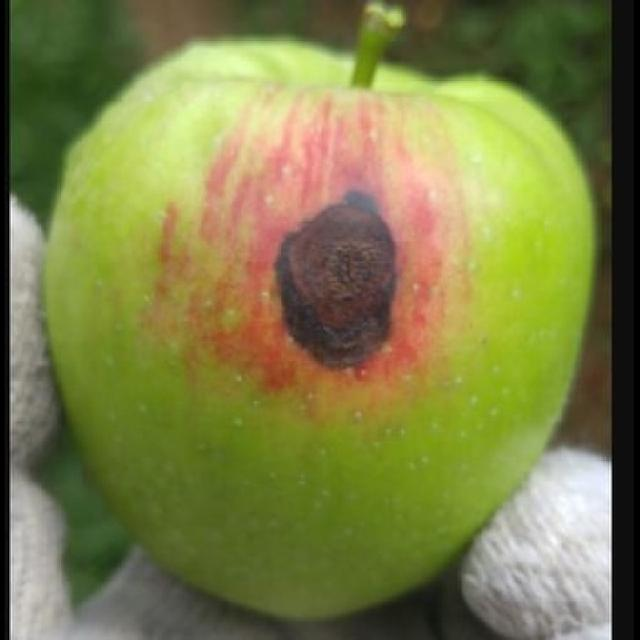Rotten Apple: (32, 31, 600, 618)
